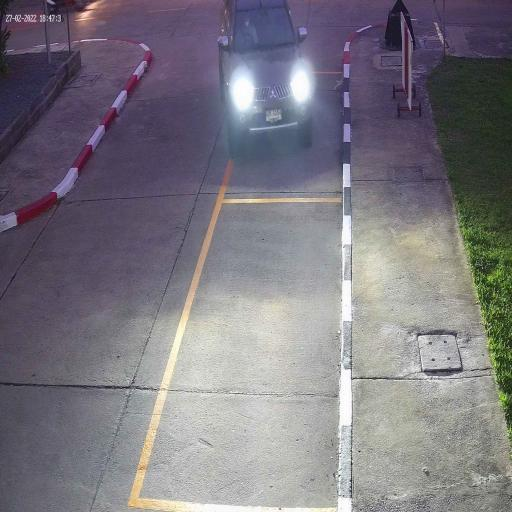car: (218, 0, 313, 154)
